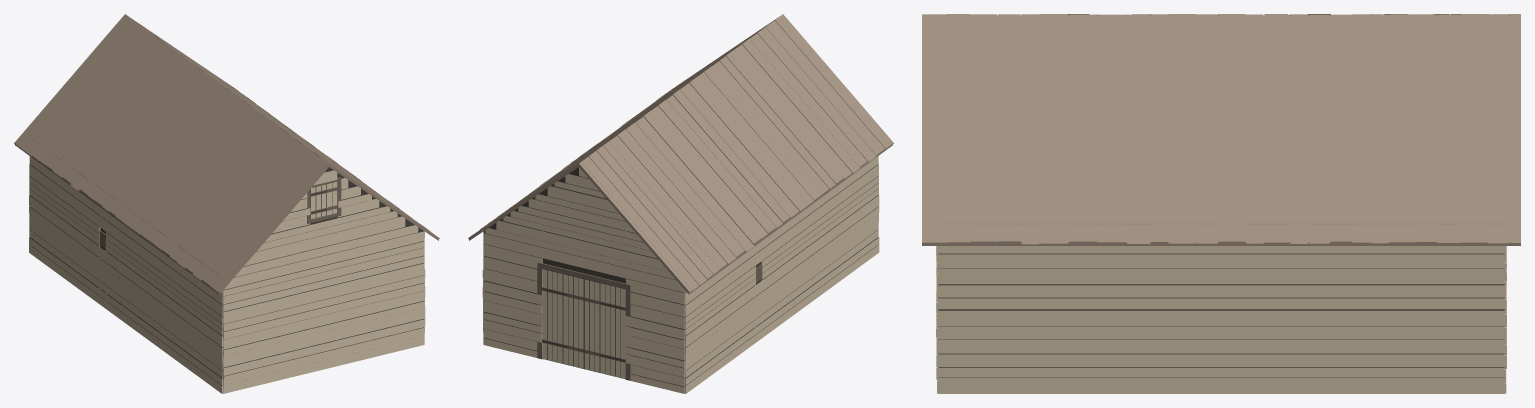
The model's file is recon_1835_blk_south_water_wells_a2_10__inferred_1835.glb.
The picture shows the model from 3 angles, left to right: view 1: azimuth 30°, elevation 25°; view 2: azimuth 150°, elevation 25°; view 3: azimuth 270°, elevation 25°; orthographic projection. The views are drawn at different scales.
Parts seen in each view (by area): view 1: recon_1835_blk_south_water_wells_a2_10__inferred_1835; view 2: recon_1835_blk_south_water_wells_a2_10__inferred_1835; view 3: recon_1835_blk_south_water_wells_a2_10__inferred_1835.
Boxes of the visible parts, left/top/right/bottom form: recon_1835_blk_south_water_wells_a2_10__inferred_1835: left=14, top=14, right=439, bottom=393; recon_1835_blk_south_water_wells_a2_10__inferred_1835: left=468, top=14, right=893, bottom=393; recon_1835_blk_south_water_wells_a2_10__inferred_1835: left=922, top=14, right=1520, bottom=393.
Bounding box in the file's own units: 7.71 × 6.94 × 12.23.
